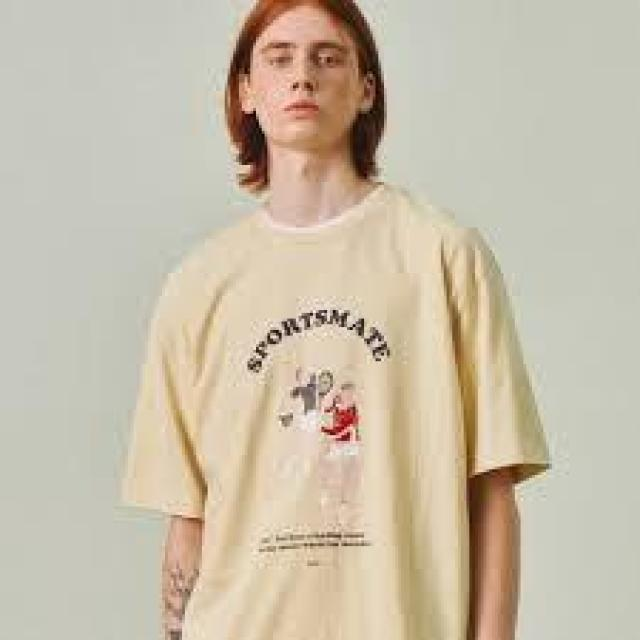Tshirt: (115, 179, 553, 640)
